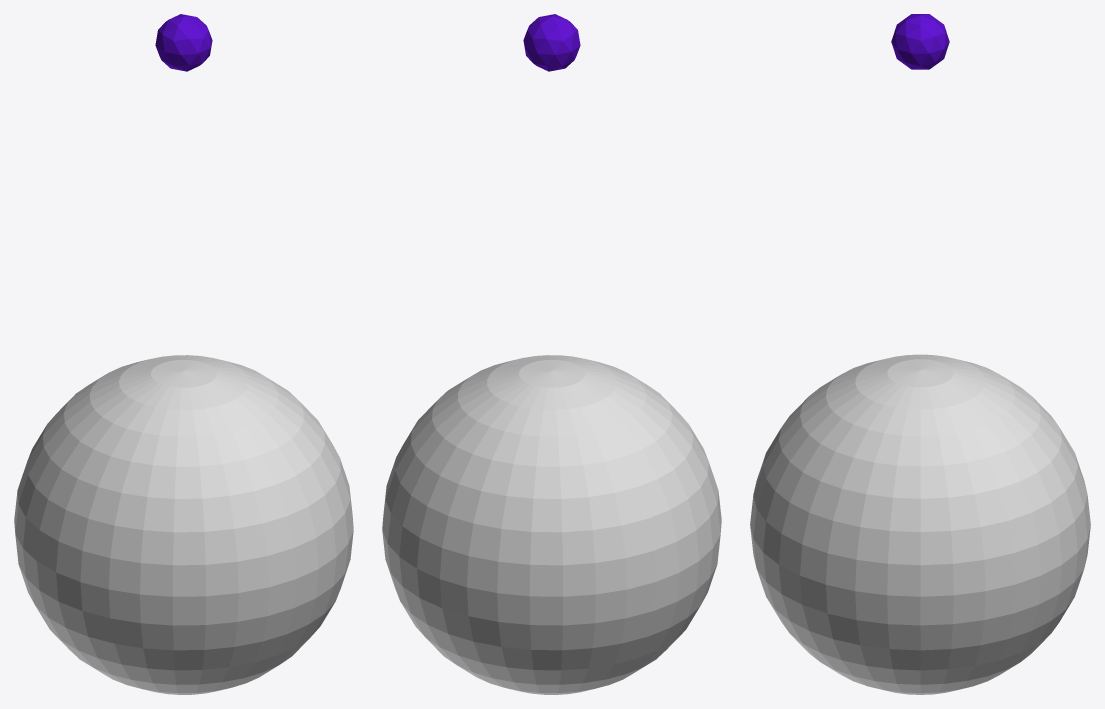
File: balls2.dae
The picture shows the model from 3 angles, left to right: view 1: azimuth 30°, elevation 25°; view 2: azimuth 150°, elevation 25°; view 3: azimuth 270°, elevation 25°; orthographic projection.
Parts seen in each view (by area): view 1: Sphere, Icosphere; view 2: Sphere, Icosphere; view 3: Sphere, Icosphere.
Boxes of the visible parts, x1,y1,x2,y2 form: Sphere: (14,355,353,694); Icosphere: (155,14,212,71); Sphere: (382,355,721,694); Icosphere: (523,14,580,71); Sphere: (750,354,1090,694); Icosphere: (891,14,949,69).
Bounding box in the file's own units: 2 × 2 × 4.3.
